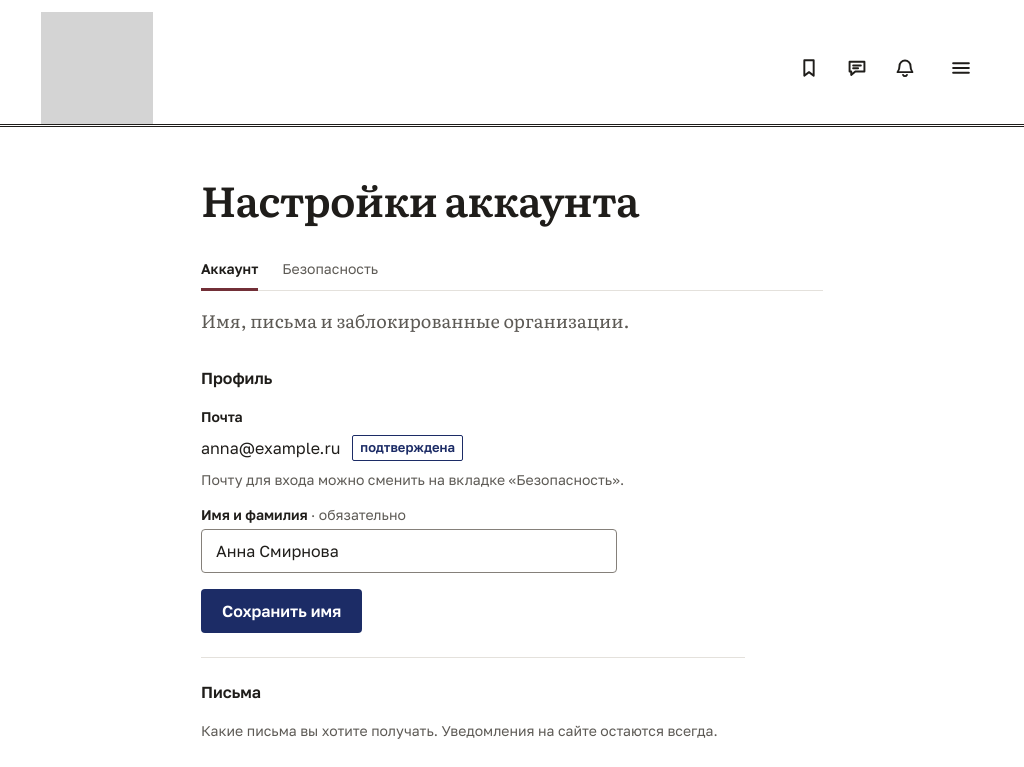
Test case: AccountPage › name › shows other trouble above the form
Expected: the heading "Профиль" is shown, [201, 368, 272, 388]
Step 1. Click the button "Сохранить имя" → (282, 611), box [201, 589, 362, 633]
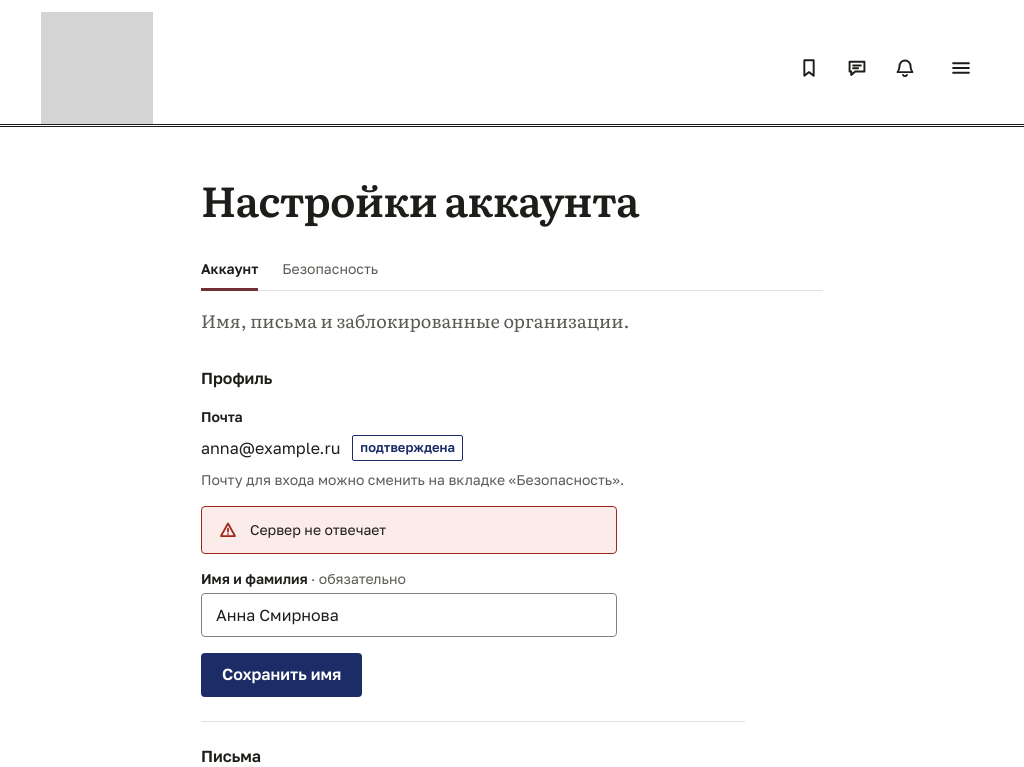
Expected: the message reads "Сервер не отвечает", [250, 521, 386, 538]
